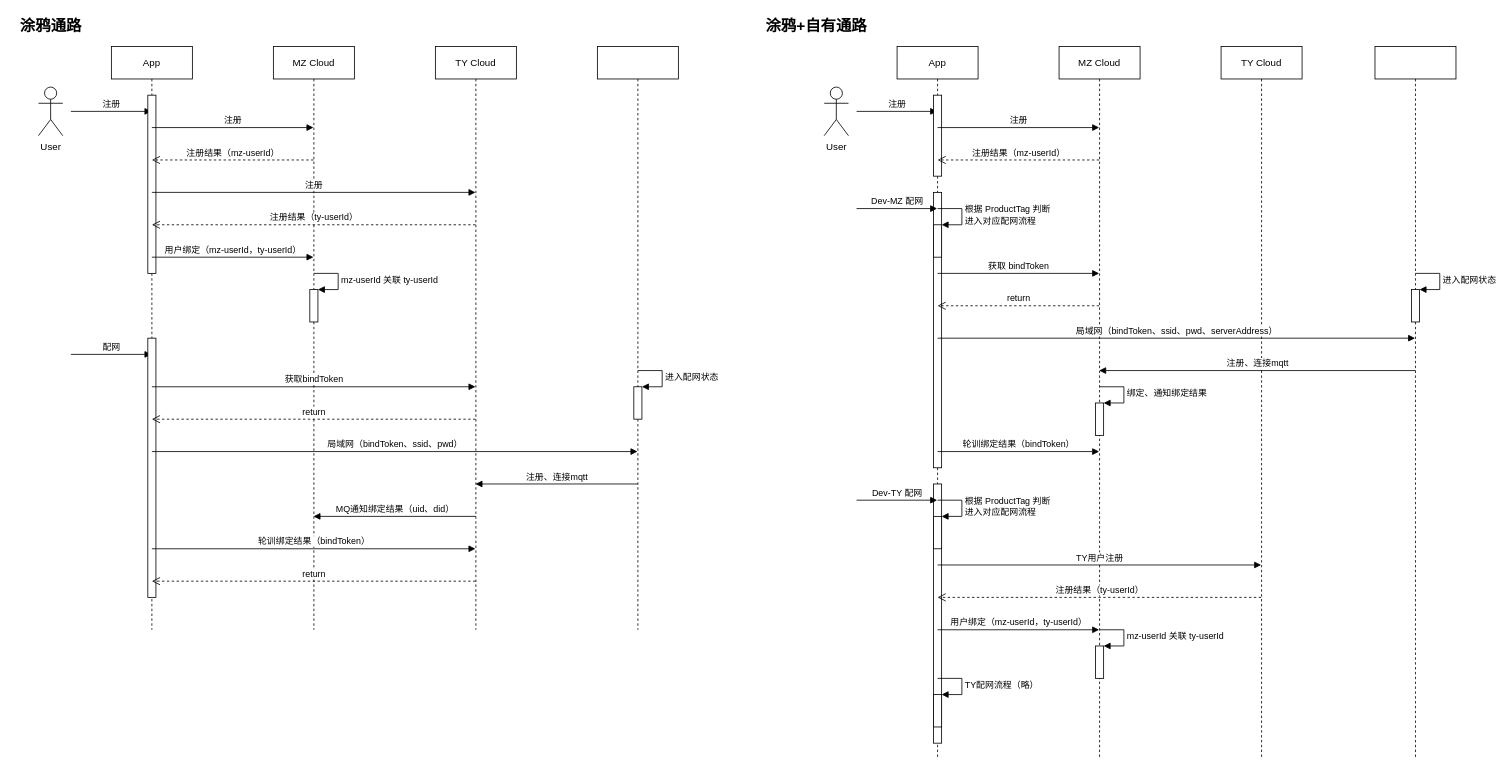
The diagram is 1510 pixels wide and 774 high, and some of its shapes have lost their labels. Each missing label, with the box of its shape:
Device-MZ: (1374, 46, 1456, 759)
Device-TY: (597, 46, 678, 630)
